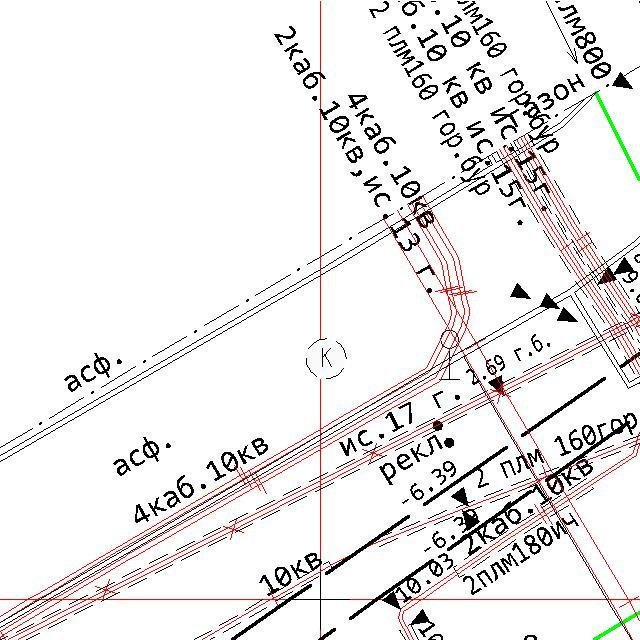asphalt: (64, 351, 124, 394), (113, 436, 172, 478)
bushes: (303, 337, 349, 381)
mark: (459, 507, 481, 532), (380, 589, 403, 611), (509, 280, 533, 301), (450, 486, 470, 509), (408, 606, 431, 626), (610, 72, 635, 90), (596, 266, 618, 286), (539, 291, 562, 310), (557, 306, 580, 324), (614, 256, 634, 276), (487, 374, 506, 395)
